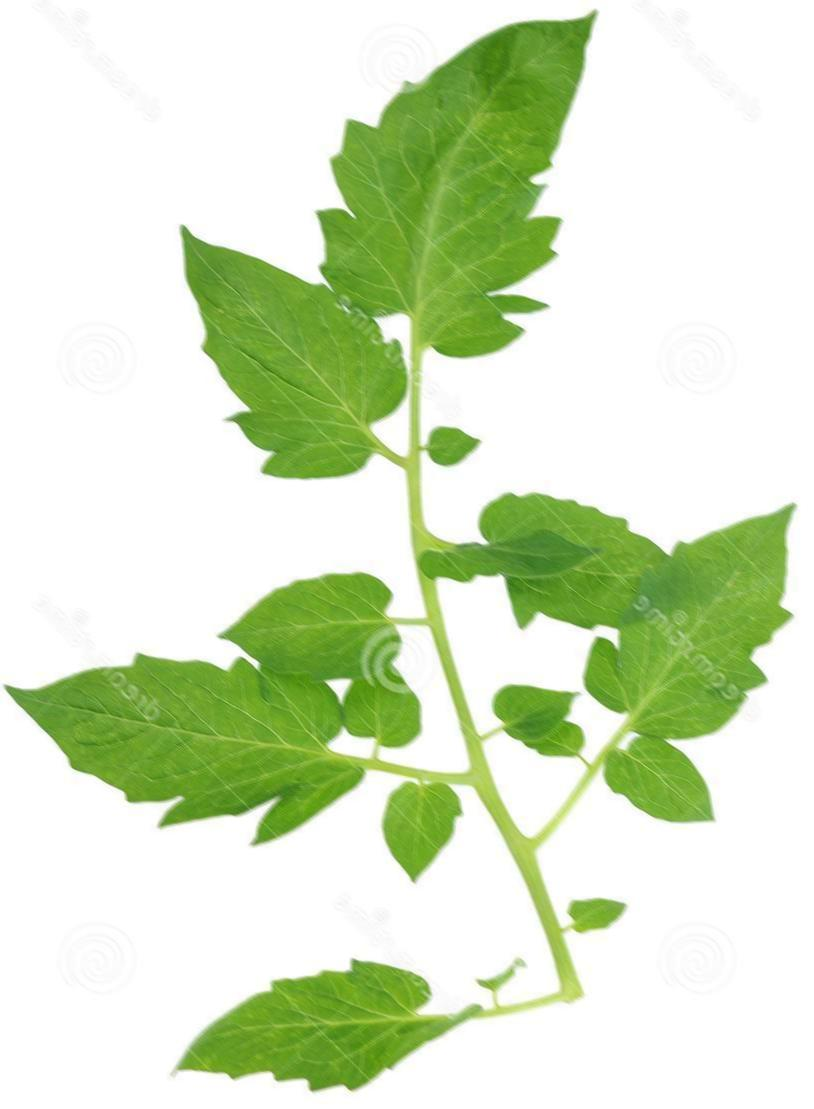Tomato leaf: (324, 0, 650, 370), (143, 213, 431, 528), (0, 658, 367, 849), (586, 474, 807, 758), (152, 925, 462, 1109), (458, 451, 667, 645), (186, 558, 424, 709)
